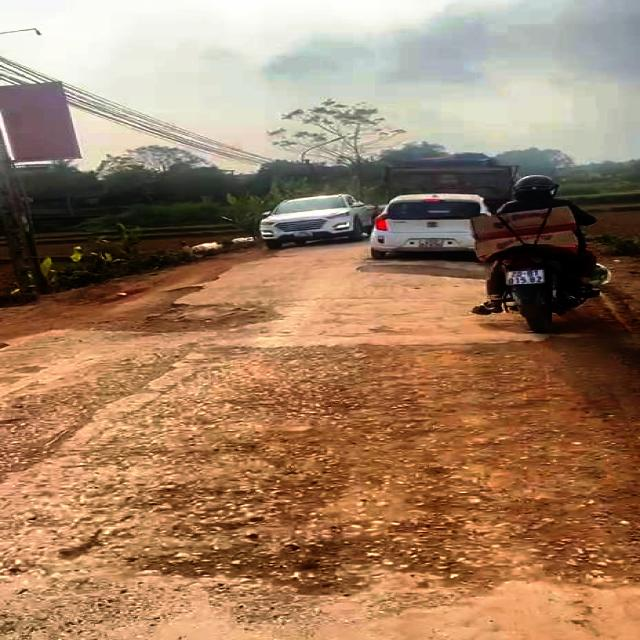pothole: (132, 517, 482, 601), (61, 284, 280, 336), (352, 262, 487, 282)
